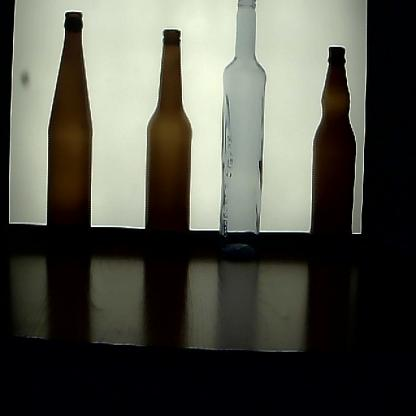Can: (45, 10, 97, 282), (141, 28, 195, 280), (218, 0, 267, 269), (310, 44, 357, 270)
